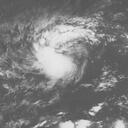cyclone: (34, 39, 76, 81)
